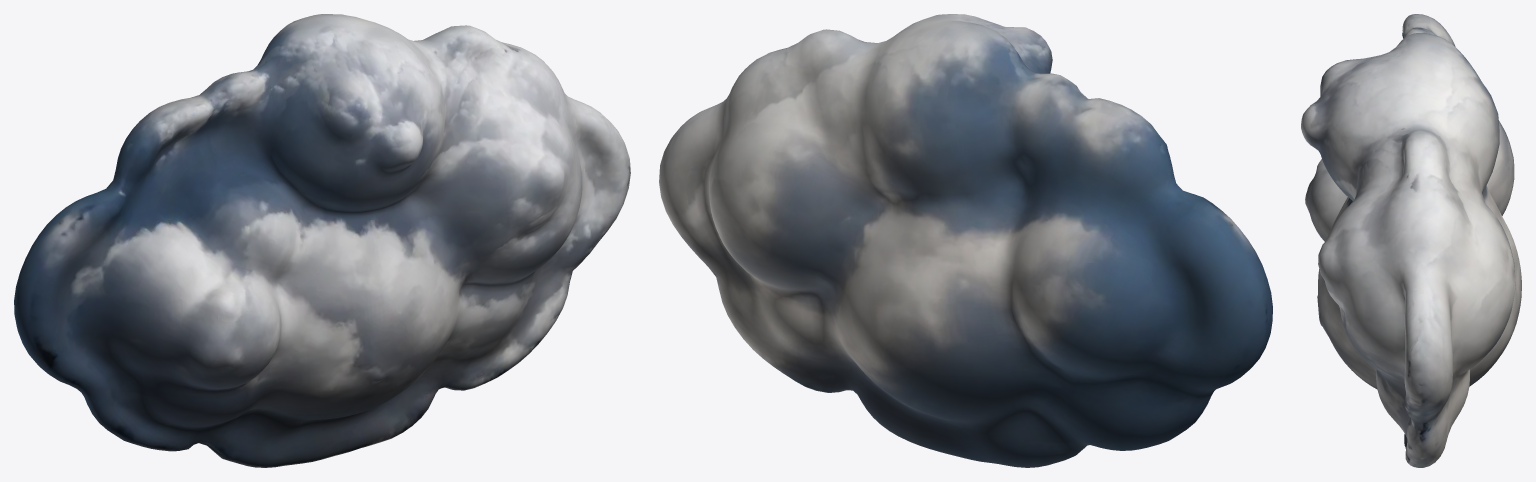
File: cloud.glb
3 views of the same model, side by side, from view 1: azimuth 30°, elevation 25°; view 2: azimuth 150°, elevation 25°; view 3: azimuth 270°, elevation 25° (orthographic). The views are drawn at different scales.
Bounding box in the file's own units: 2 × 1.36 × 0.704.
1 material, 1 textured.
